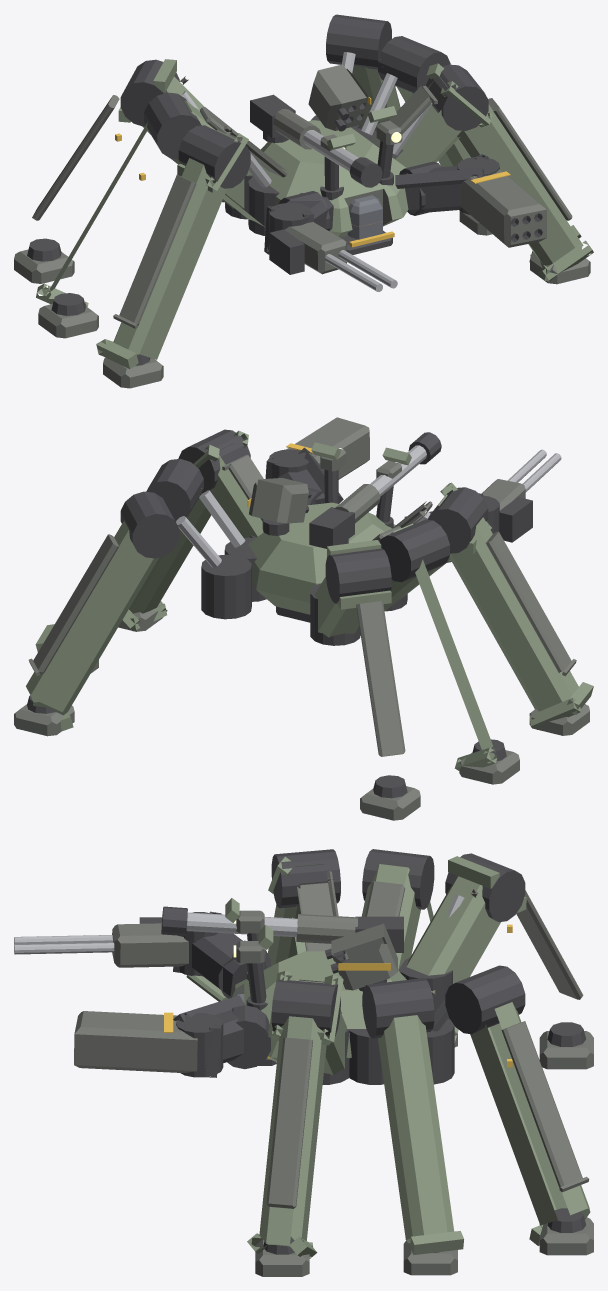
The model's file is mitten.glb.
3 views of the same model, one above another, from view 1: azimuth 30°, elevation 25°; view 2: azimuth 150°, elevation 25°; view 3: azimuth 270°, elevation 25° (orthographic). The views are drawn at different scales.
Parts seen in each view (by area): view 1: tibia0-1, carapace, tibia01, rockets1_box, tibia0-1_top, missiles1, femur01, knee0-1, knee21, upper1, knee11, knee01 (+33 smaller); view 2: tibia0-1, tibia21, carapace, tibia2-1_top, tibia1-1, knee1-1, coxa21, knee21, knee2-1, tibia0-1_top, tibia01, femur2-1 (+26 smaller); view 3: tibia11, tibia21, rockets1_box, femur2-1, tibia01, tibia01_top, tibia21_top, knee21, carapace, knee11, missiles1, autocannon-1_rec (+32 smaller).
Boxes of the visible parts, x1,y1,x2,y2 form: tibia0-1: [96, 158, 226, 368]; carapace: [259, 120, 408, 237]; tibia01: [457, 104, 593, 281]; rockets1_box: [461, 169, 546, 247]; tibia0-1_top: [113, 175, 196, 328]; missiles1: [308, 64, 368, 131]; femur01: [395, 63, 492, 167]; knee0-1: [178, 125, 250, 188]; knee21: [326, 14, 391, 69]; upper1: [395, 154, 488, 213]; knee11: [378, 36, 450, 93]; knee01: [426, 64, 488, 130]; tibia0-1: [449, 517, 593, 729]; tibia21: [26, 520, 158, 730]; carapace: [248, 502, 395, 614]; tibia2-1_top: [356, 601, 405, 756]; tibia1-1: [415, 559, 497, 770]; knee1-1: [379, 519, 449, 582]; coxa21: [201, 554, 251, 619]; knee21: [120, 491, 179, 558]; knee2-1: [325, 548, 391, 603]; tibia0-1_top: [486, 531, 576, 676]; tibia01: [122, 493, 211, 630]; femur2-1: [314, 540, 391, 637]; tibia11: [378, 1015, 463, 1254]; tibia21: [470, 1002, 590, 1245]; rockets1_box: [74, 1011, 197, 1072]; femur2-1: [406, 856, 526, 994]; tibia01: [247, 1016, 326, 1258]; tibia01_top: [266, 1037, 312, 1208]; tibia21_top: [501, 1021, 589, 1192]; knee21: [445, 965, 525, 1034]; carapace: [229, 951, 406, 1061]; knee11: [362, 978, 434, 1038]; missiles1: [325, 923, 397, 990]; autocannon-1_rec: [112, 923, 188, 967].
Size of what is drawn, in the model's own units: 32.75 by 14.07 by 30.98.
